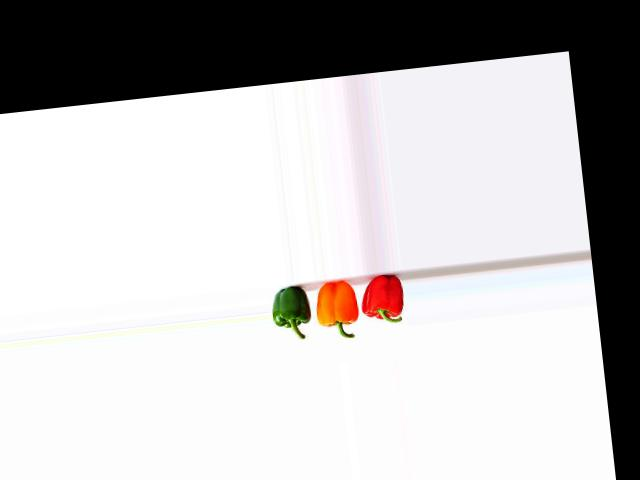bell_pepper: (358, 273, 410, 336)
